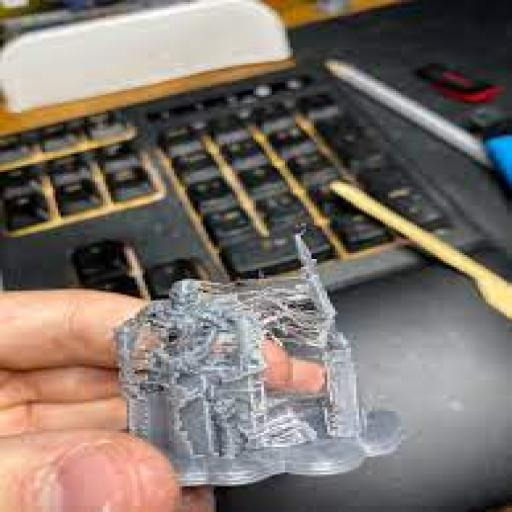spaghetti: (86, 252, 370, 391)
